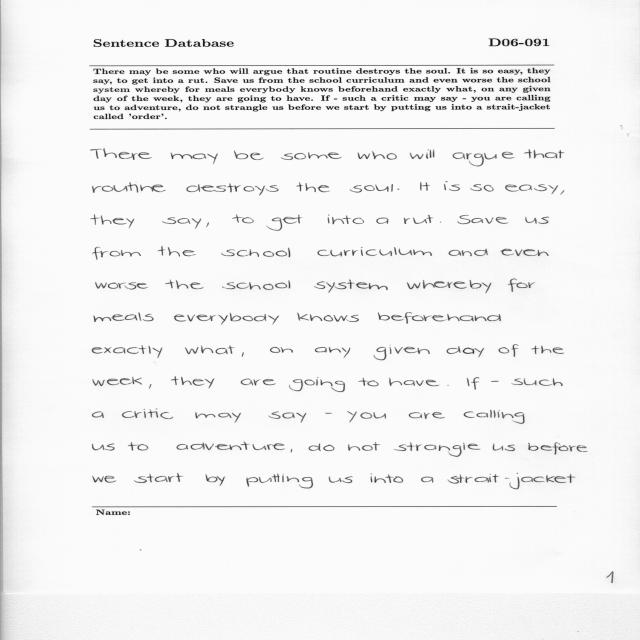word: (447, 473, 576, 489), (378, 312, 501, 324), (174, 312, 279, 325), (394, 442, 480, 457), (186, 184, 279, 196), (407, 280, 491, 293), (246, 473, 313, 489), (317, 247, 432, 256), (314, 280, 388, 293), (93, 345, 163, 358), (176, 442, 285, 450), (453, 152, 515, 166), (373, 345, 430, 360), (464, 410, 525, 424), (289, 377, 345, 392), (93, 182, 166, 193), (528, 442, 588, 455), (222, 248, 291, 258), (222, 280, 290, 290), (91, 149, 152, 160), (91, 214, 134, 229), (266, 214, 303, 231), (93, 247, 141, 260), (94, 312, 154, 322), (171, 376, 214, 389), (297, 313, 359, 322), (505, 184, 558, 194), (171, 153, 219, 164), (122, 409, 173, 419), (195, 412, 241, 423), (134, 473, 183, 483), (281, 152, 341, 160), (163, 217, 201, 229), (458, 215, 508, 224), (447, 346, 484, 358), (185, 345, 234, 354), (93, 377, 142, 386), (347, 412, 386, 423), (158, 246, 196, 257), (269, 412, 307, 423), (511, 378, 563, 386), (389, 378, 439, 386), (350, 184, 393, 193), (315, 347, 350, 358), (96, 282, 149, 289), (524, 149, 565, 158), (328, 215, 364, 225), (358, 151, 397, 160), (508, 279, 535, 292), (500, 249, 549, 256), (166, 280, 204, 289), (296, 182, 330, 192), (371, 473, 404, 483), (234, 150, 263, 160), (348, 442, 380, 451), (449, 249, 488, 256), (531, 346, 564, 354), (404, 215, 433, 224), (499, 344, 519, 357), (409, 412, 445, 419), (410, 149, 435, 159), (241, 379, 276, 386), (206, 474, 226, 486), (309, 444, 335, 452), (232, 215, 254, 224), (128, 442, 148, 451), (470, 184, 494, 191), (525, 217, 549, 224), (92, 476, 116, 483), (329, 476, 353, 483), (444, 182, 460, 192), (359, 378, 379, 386), (467, 377, 479, 390), (93, 444, 115, 451), (493, 444, 515, 451), (270, 347, 293, 353), (420, 182, 430, 191), (92, 411, 104, 418), (376, 218, 388, 224), (421, 477, 433, 483), (561, 190, 565, 195), (206, 223, 209, 228), (149, 384, 152, 389), (242, 352, 244, 357), (491, 381, 499, 382), (291, 449, 293, 453), (325, 413, 332, 414), (398, 189, 400, 190), (447, 385, 449, 386), (440, 222, 441, 223)
